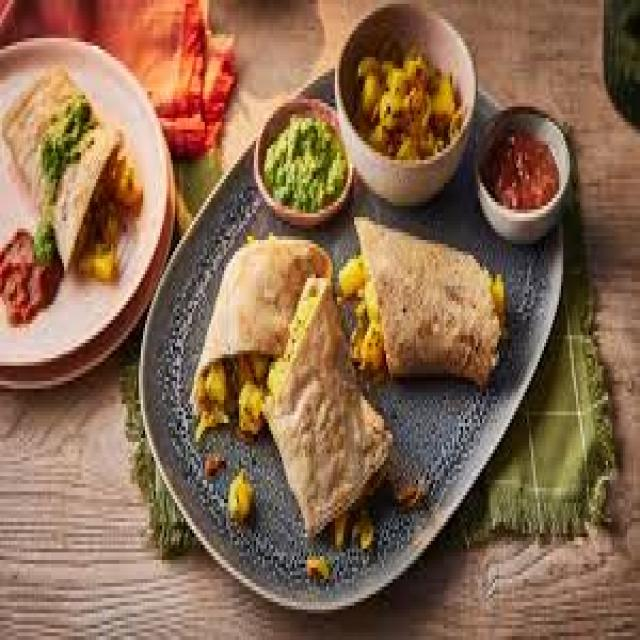DOSA: (267, 270, 390, 522)
SAMOSA: (352, 217, 503, 381), (49, 126, 139, 270)
